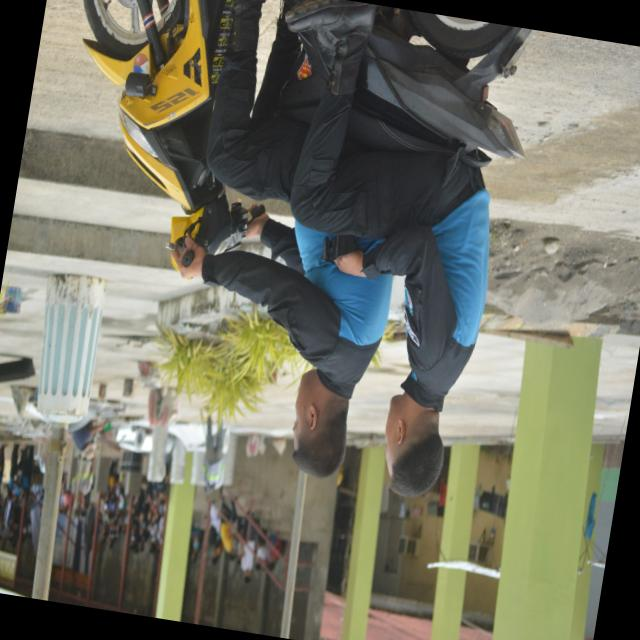person: (286, 0, 488, 495), (172, 215, 391, 476), (203, 416, 223, 493), (71, 420, 105, 458)
